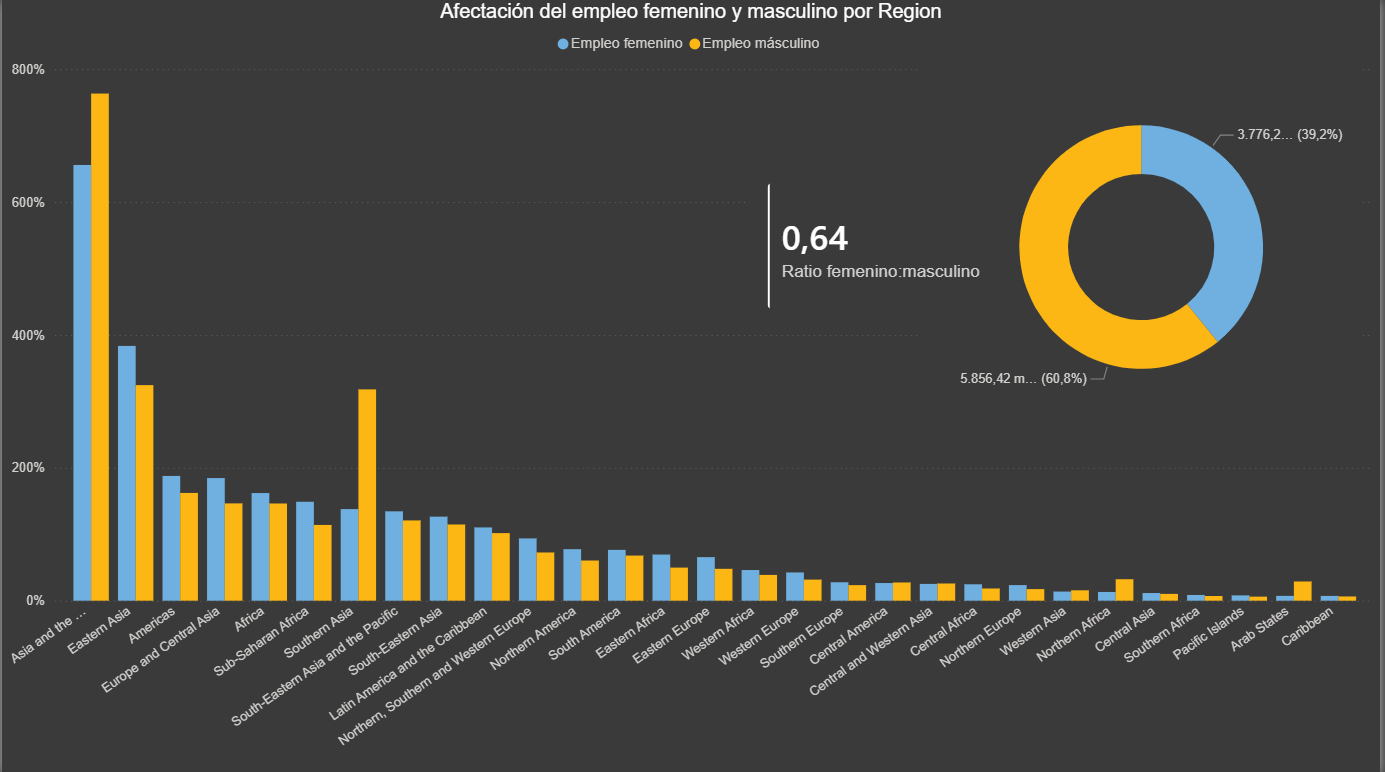

This screenshot's page, from the dashboard's own definition file:
{"tool":"powerbi","page":{"name":"Region","canvas":[1280,720],"ordinal":2},"visuals":[{"type":"clusteredColumnChart","title":"Afectación del empleo femenino y masculino por Region","fields":{"Category":["Covid_employment_data1.Region"],"Y":["Divide(Avg(Covid_employment_data1.Employed_Female_25plus_2018), ScopedEval(Avg(Covid_employment_data1.Employed_Female_25","Divide(Avg(Covid_employment_data1.Employed_Male_25plus_2018), ScopedEval(Avg(Covid_employment_data1.Employed_Male_25plus"]},"box":[0,0,1280,720],"z":0},{"type":"donutChart","fields":{"Y":["Avg(Covid_employment_data1.Employed_Female_25plus_2018)","Avg(Covid_employment_data1.Employed_Male_25plus_2018)"]},"box":[853.3,63.3,410,331.7],"z":1500},{"type":"cardVisual","fields":{"Data":["Covid_employment_data1.Ratio"]},"box":[695,153.3,246.7,151.7],"z":2001}]}

Visuals, with their boxes in screenshot pixels (x1, y1, x2, y2), scaled from the page's 1280x720 canvas onto the 1385x772 screenshot:
"Afectación del empleo femenino y masculino por Region" clusteredColumnChart: (0, 0, 1384, 771)
donutChart - Avg(Covid_employment_data1.Employed_Female_25plus_2018) x Avg(Covid_employment_data1.Employed_Male_25plus_2018): (923, 68, 1367, 424)
cardVisual - Covid_employment_data1.Ratio: (752, 164, 1019, 327)
